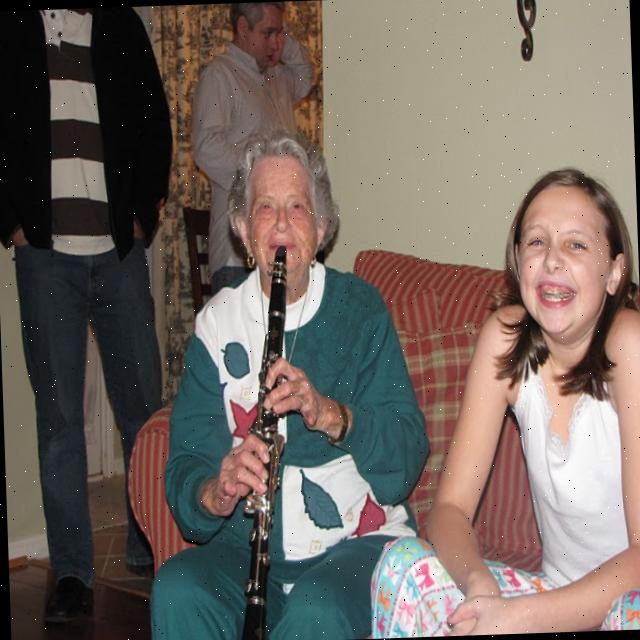clarinet: (226, 244, 303, 640)
